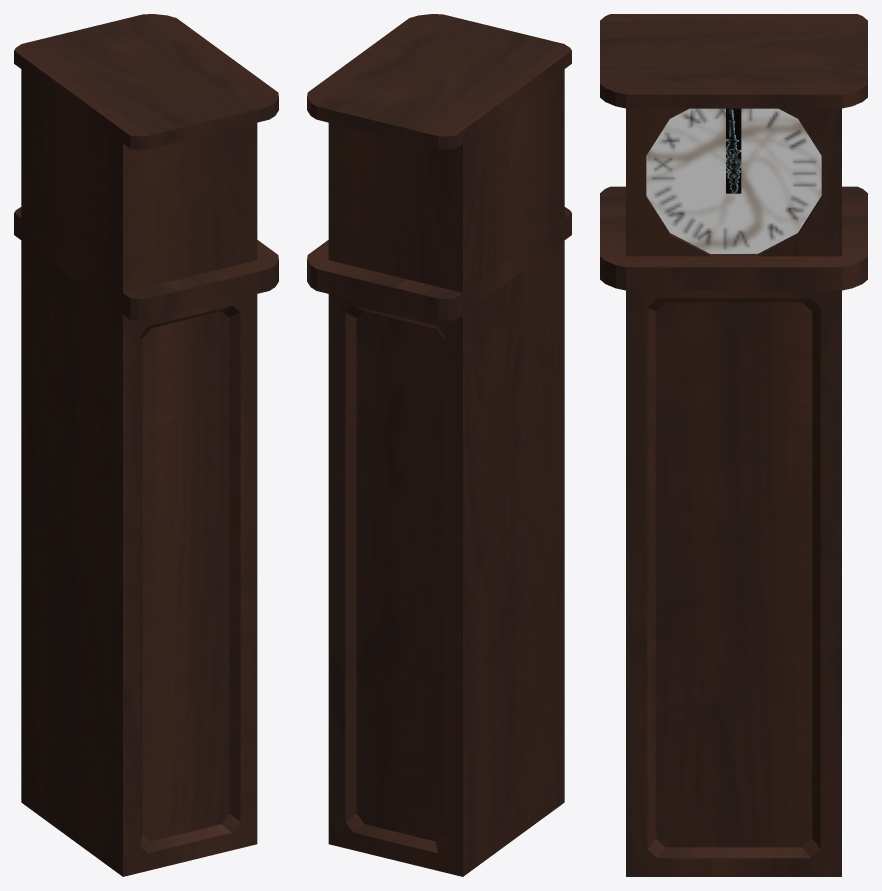
File: clock finished.fbx
3 renders of one model, left to right at view 1: azimuth 30°, elevation 25°; view 2: azimuth 150°, elevation 25°; view 3: azimuth 270°, elevation 25°, orthographic. The views are drawn at different scales.
Parts seen in each view (by area): view 1: main body; view 2: main body; view 3: main body, main face, minute hand.
Part boxes in pixels (left/top/right/bottom): main body: left=14, top=14, right=278, bottom=876; main body: left=307, top=14, right=571, bottom=876; main body: left=600, top=14, right=867, bottom=876; main face: left=646, top=108, right=821, bottom=253; minute hand: left=726, top=108, right=741, bottom=193.
Bounding box in the file's own units: 3700 × 17000 × 5200.
5 materials, 5 textured.
